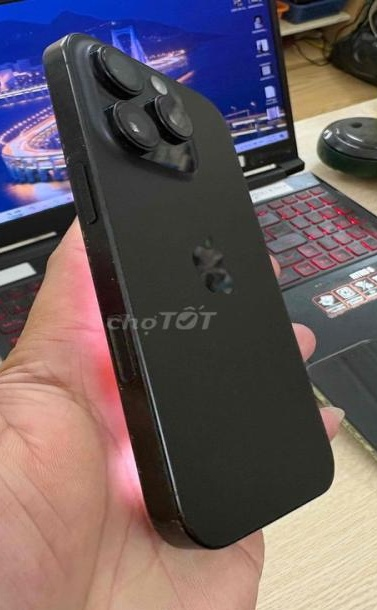physical_damage: (42, 28, 84, 58)
scratch: (107, 302, 145, 406), (82, 221, 125, 291), (162, 469, 192, 533), (59, 124, 89, 164), (130, 428, 154, 448)
